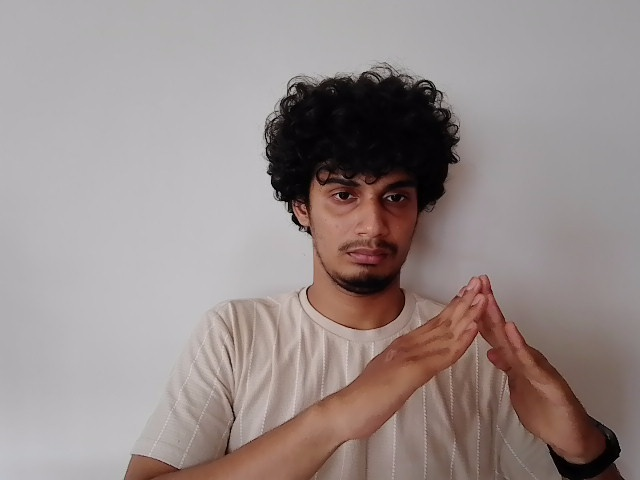home: (372, 274, 592, 444)
